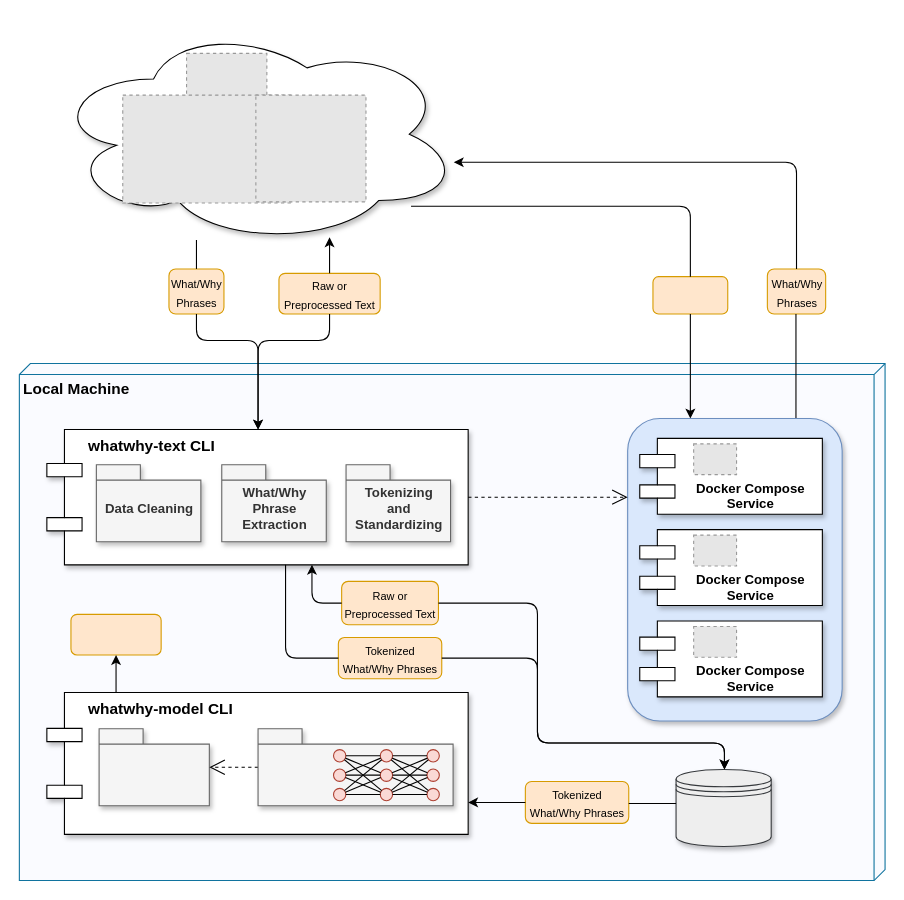
The diagram is 904 pixels wide and 900 high, and some of its shapes have lost their labels. Grey dashed boxes stand in for pictures. The shapes that lost their labels are listed below. From the top down, each one's centre as x and y in pixels, then its label:
At (690,295): "Preprocessed Text".
At (115,634): "What/Why Prediction Model".
At (155,768): "Text Vectorization".
At (356,768): "Seq2Seq Model".
At (724,809): "File System".
